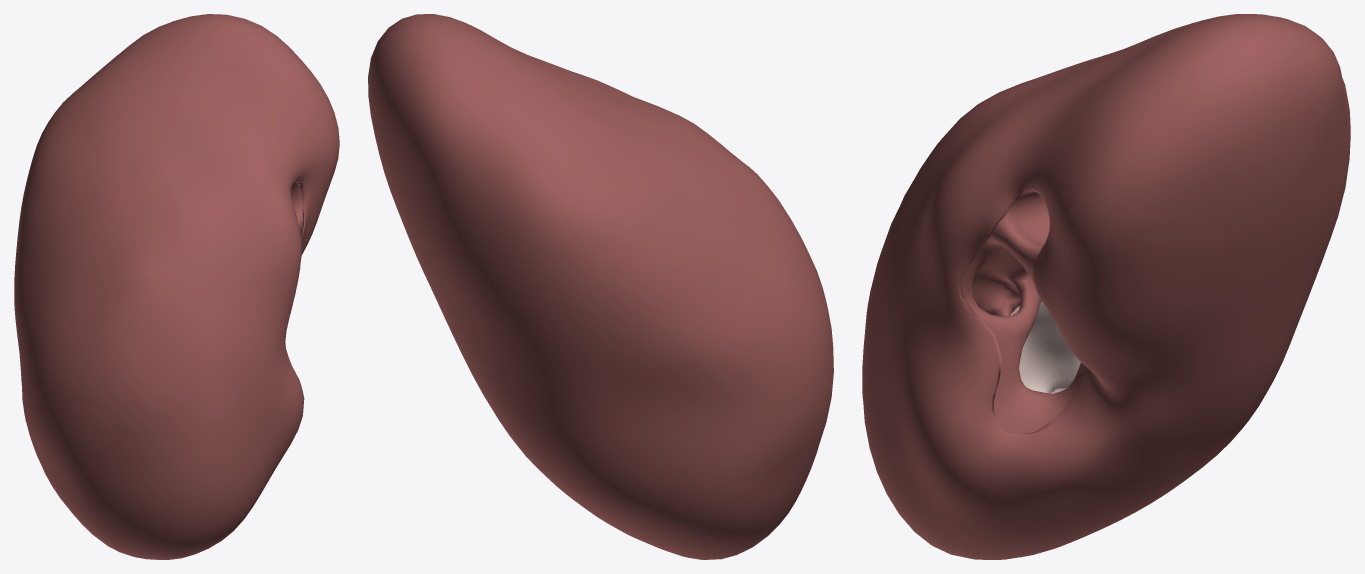
Rendered from vh_f_kidney_r-100.glb.
The picture shows the model from 3 angles, left to right: view 1: azimuth 30°, elevation 25°; view 2: azimuth 150°, elevation 25°; view 3: azimuth 270°, elevation 25°; orthographic projection. The views are drawn at different scales.
Visible parts, largest first — view 1: VH_F_kidney_capsule_R; view 2: VH_F_kidney_capsule_R; view 3: VH_F_kidney_capsule_R, VH_F_hilum_of_kidney_R, VH_F_renal_column_R.
Boxes of the visible parts, x1,y1,x2,y2 form: VH_F_kidney_capsule_R: (14,14,339,559); VH_F_kidney_capsule_R: (368,14,833,559); VH_F_kidney_capsule_R: (862,14,1350,559); VH_F_hilum_of_kidney_R: (960,189,1086,434); VH_F_renal_column_R: (1010,301,1080,393).
Bounding box in the file's own units: 0.0734 × 0.0979 × 0.0695.
